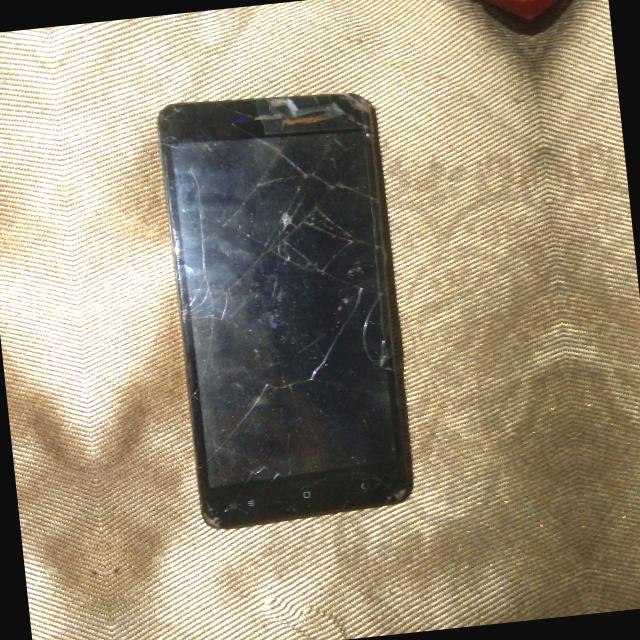phone_screen: (169, 107, 400, 513)
